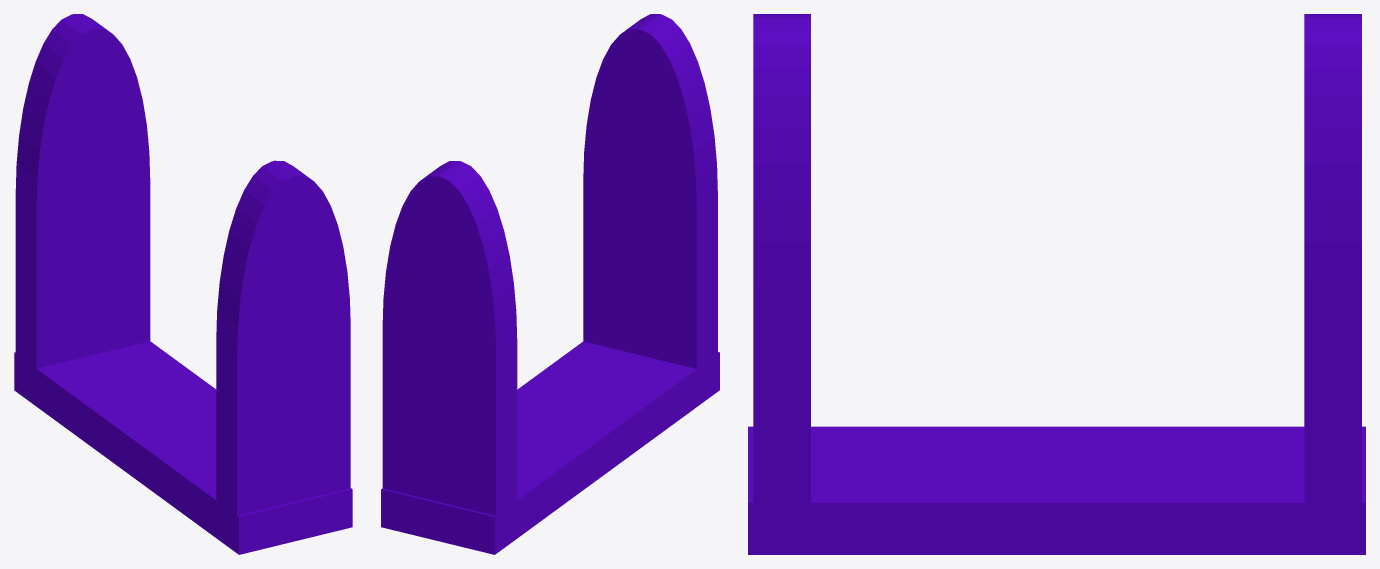
The model's file is cannon-base.glb.
3 views of the same model, side by side, from view 1: azimuth 30°, elevation 25°; view 2: azimuth 150°, elevation 25°; view 3: azimuth 270°, elevation 25° (orthographic). The views are drawn at different scales.
Parts seen in each view (by area): view 1: Cube.001_Material.004_0.001; view 2: Cube.001_Material.004_0.001; view 3: Cube.001_Material.004_0.001.
Boxes of the visible parts, x1,y1,x2,y2 form: Cube.001_Material.004_0.001: [14, 14, 352, 554]; Cube.001_Material.004_0.001: [381, 14, 719, 554]; Cube.001_Material.004_0.001: [748, 14, 1365, 554].
Bounding box in the file's own units: 1.09 × 3.32 × 3.72.
